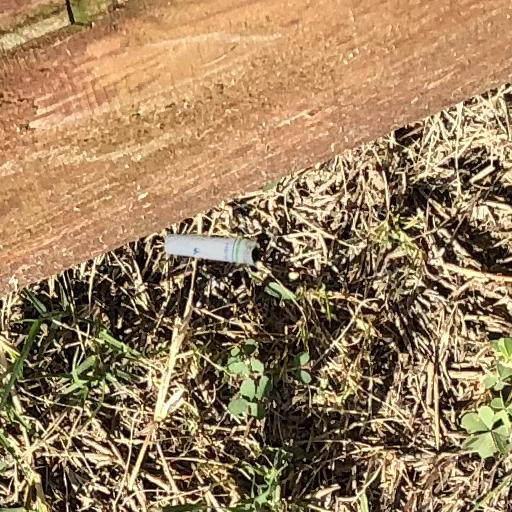smoke: (165, 234, 259, 265)
